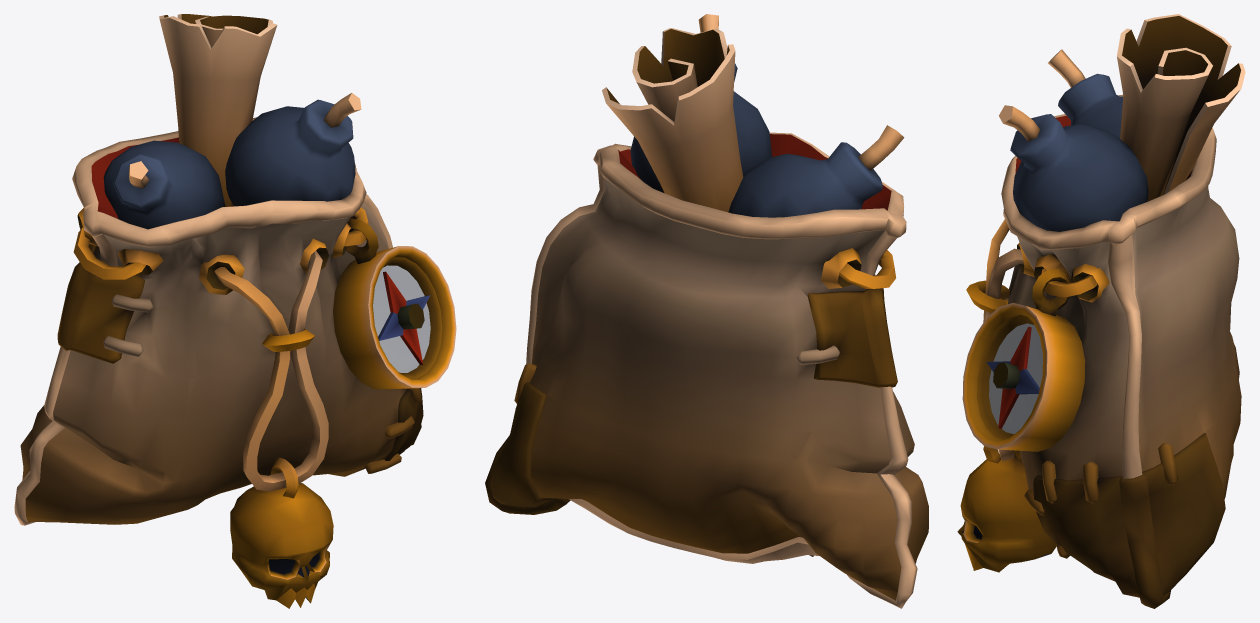
Rendered from Back_Adventurer_Backpack.gltf.
3 views of the same model, side by side, from view 1: azimuth 30°, elevation 25°; view 2: azimuth 150°, elevation 25°; view 3: azimuth 270°, elevation 25° (orthographic). The views are drawn at different scales.
Parts seen in each view (by area): view 1: Back_Adventurer_Backpack; view 2: Back_Adventurer_Backpack; view 3: Back_Adventurer_Backpack.
Part boxes in pixels (left/top/right/bottom): Back_Adventurer_Backpack: left=14, top=14, right=456, bottom=608; Back_Adventurer_Backpack: left=485, top=14, right=928, bottom=608; Back_Adventurer_Backpack: left=957, top=14, right=1245, bottom=608.
Size of the model in its own units: 0.7929 by 1 by 0.4868.
2 materials, 2 textured.
